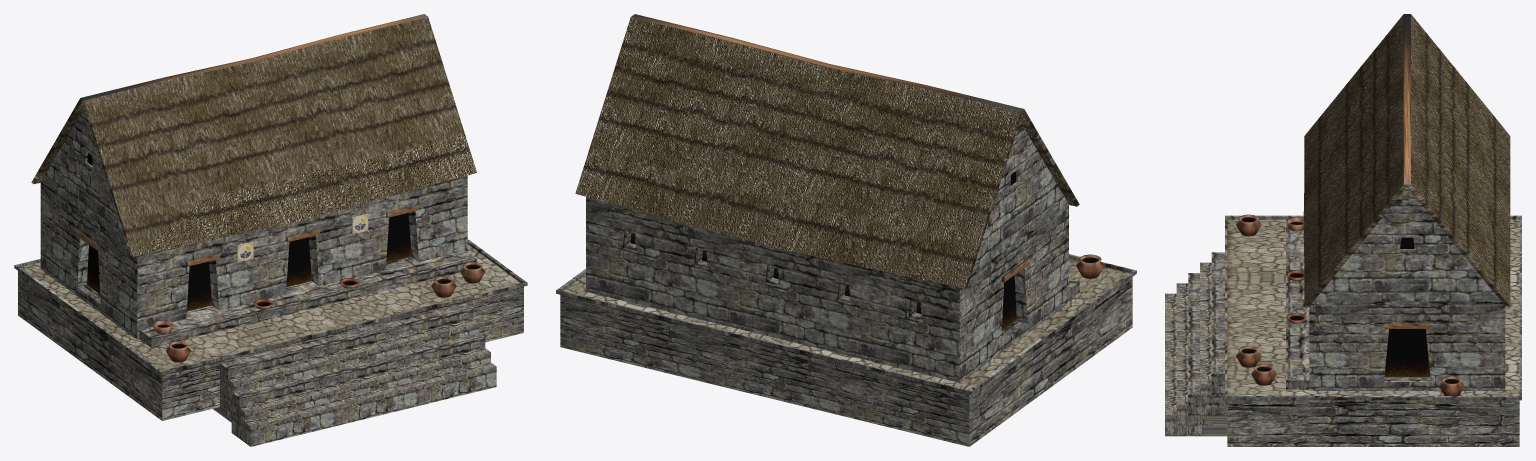
Rendered from inca_kallanka.dae.
The picture shows the model from 3 angles, left to right: view 1: azimuth 30°, elevation 25°; view 2: azimuth 150°, elevation 25°; view 3: azimuth 270°, elevation 25°; orthographic projection. The views are drawn at different scales.
Parts seen in each view (by area): view 1: kallanka; view 2: kallanka; view 3: kallanka.
Boxes of the visible parts, x1=… form: kallanka: x1=14, y1=14, x2=527, y2=446; kallanka: x1=556, y1=14, x2=1136, y2=446; kallanka: x1=1165, y1=14, x2=1521, y2=446.
Bounding box in the file's own units: 25.59 × 21.23 × 18.14.
